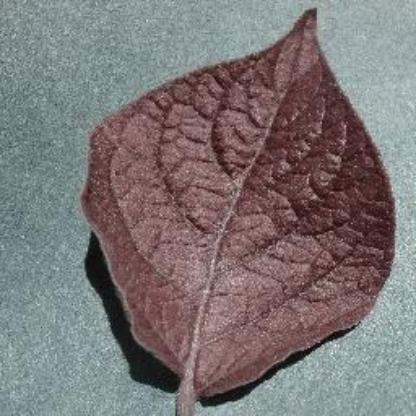Healthy-plant: (75, 2, 398, 406)
